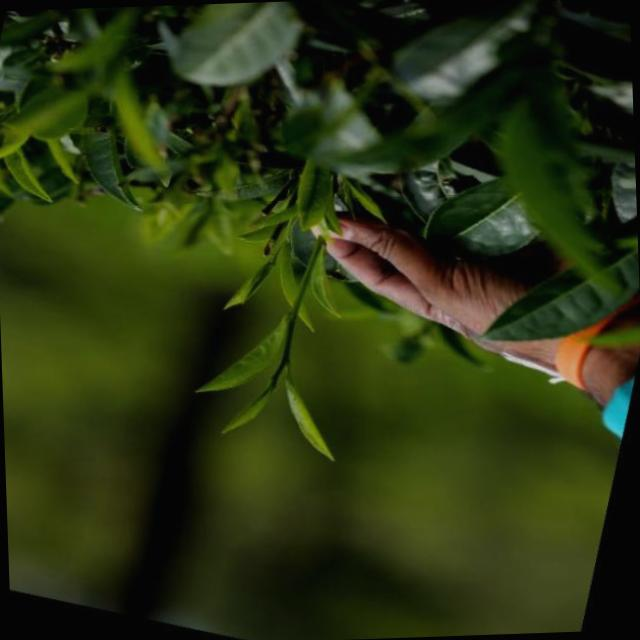Stem: (283, 356, 289, 365)
